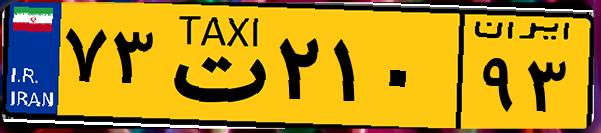0: (385, 28, 445, 110)
1: (330, 28, 385, 110)
2: (270, 28, 330, 110)
3: (525, 38, 570, 115), (110, 28, 158, 98)
7: (57, 26, 110, 100)
9: (475, 38, 525, 113)
ت: (158, 12, 270, 120)
